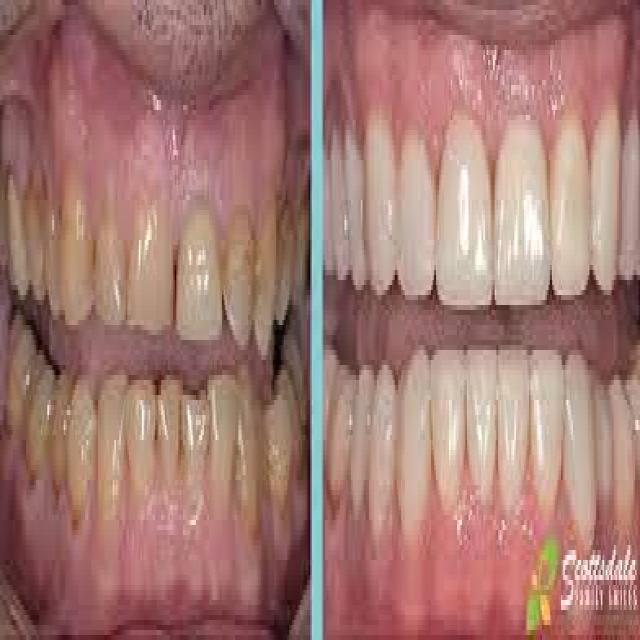tooth: (493, 90, 550, 325), (431, 115, 493, 325), (547, 95, 593, 315), (394, 335, 434, 550), (392, 125, 436, 310), (124, 195, 176, 345), (359, 110, 400, 300), (591, 75, 622, 315), (175, 215, 227, 355), (526, 340, 565, 525), (426, 340, 467, 505), (64, 360, 100, 530), (462, 340, 500, 500), (371, 340, 400, 540), (253, 175, 281, 380), (566, 345, 596, 535), (204, 350, 238, 515), (500, 335, 529, 505), (57, 190, 92, 330), (121, 365, 158, 495), (90, 215, 127, 325), (30, 340, 56, 495), (178, 380, 212, 495), (222, 225, 255, 340), (155, 360, 183, 485), (346, 125, 367, 285), (50, 345, 72, 495), (354, 340, 372, 520), (104, 380, 128, 500)
